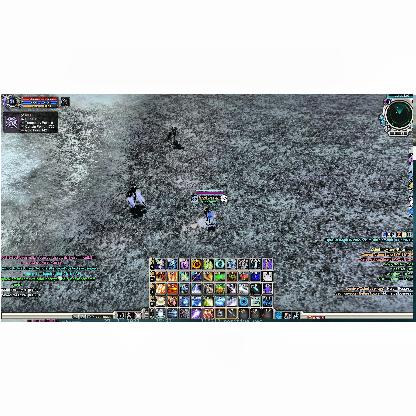caliana: (126, 184, 144, 209), (166, 125, 178, 143)
